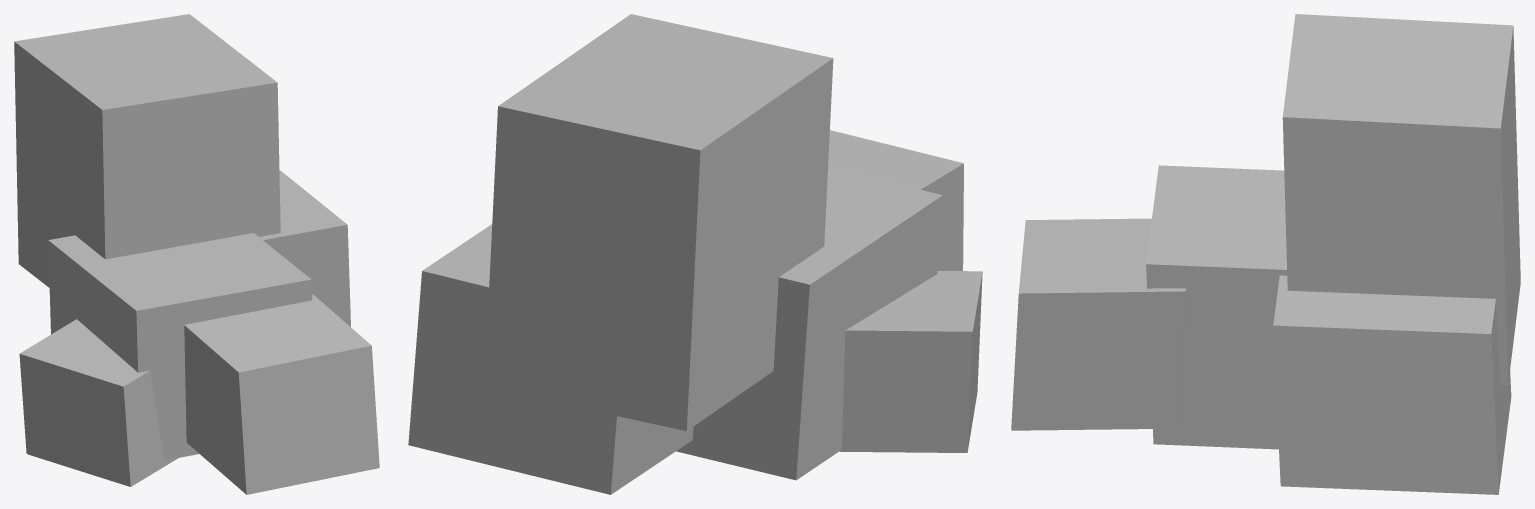
File: LightStoneDecorationSmallStoneCluster1.fbx
3 views of the same model, side by side, from view 1: azimuth 30°, elevation 25°; view 2: azimuth 150°, elevation 25°; view 3: azimuth 270°, elevation 25° (orthographic). The views are drawn at different scales.
Parts seen in each view (by area): view 1: LightStoneDecorationSmallStoneCluster1; view 2: LightStoneDecorationSmallStoneCluster1; view 3: LightStoneDecorationSmallStoneCluster1.
Boxes of the visible parts, <box> form: LightStoneDecorationSmallStoneCluster1: <box>14,14,379,494</box>; LightStoneDecorationSmallStoneCluster1: <box>408,14,982,494</box>; LightStoneDecorationSmallStoneCluster1: <box>1011,14,1520,494</box>.
Size of the model in its own units: 454 by 391 by 512.
Materials: 1 (1 with a texture image).
